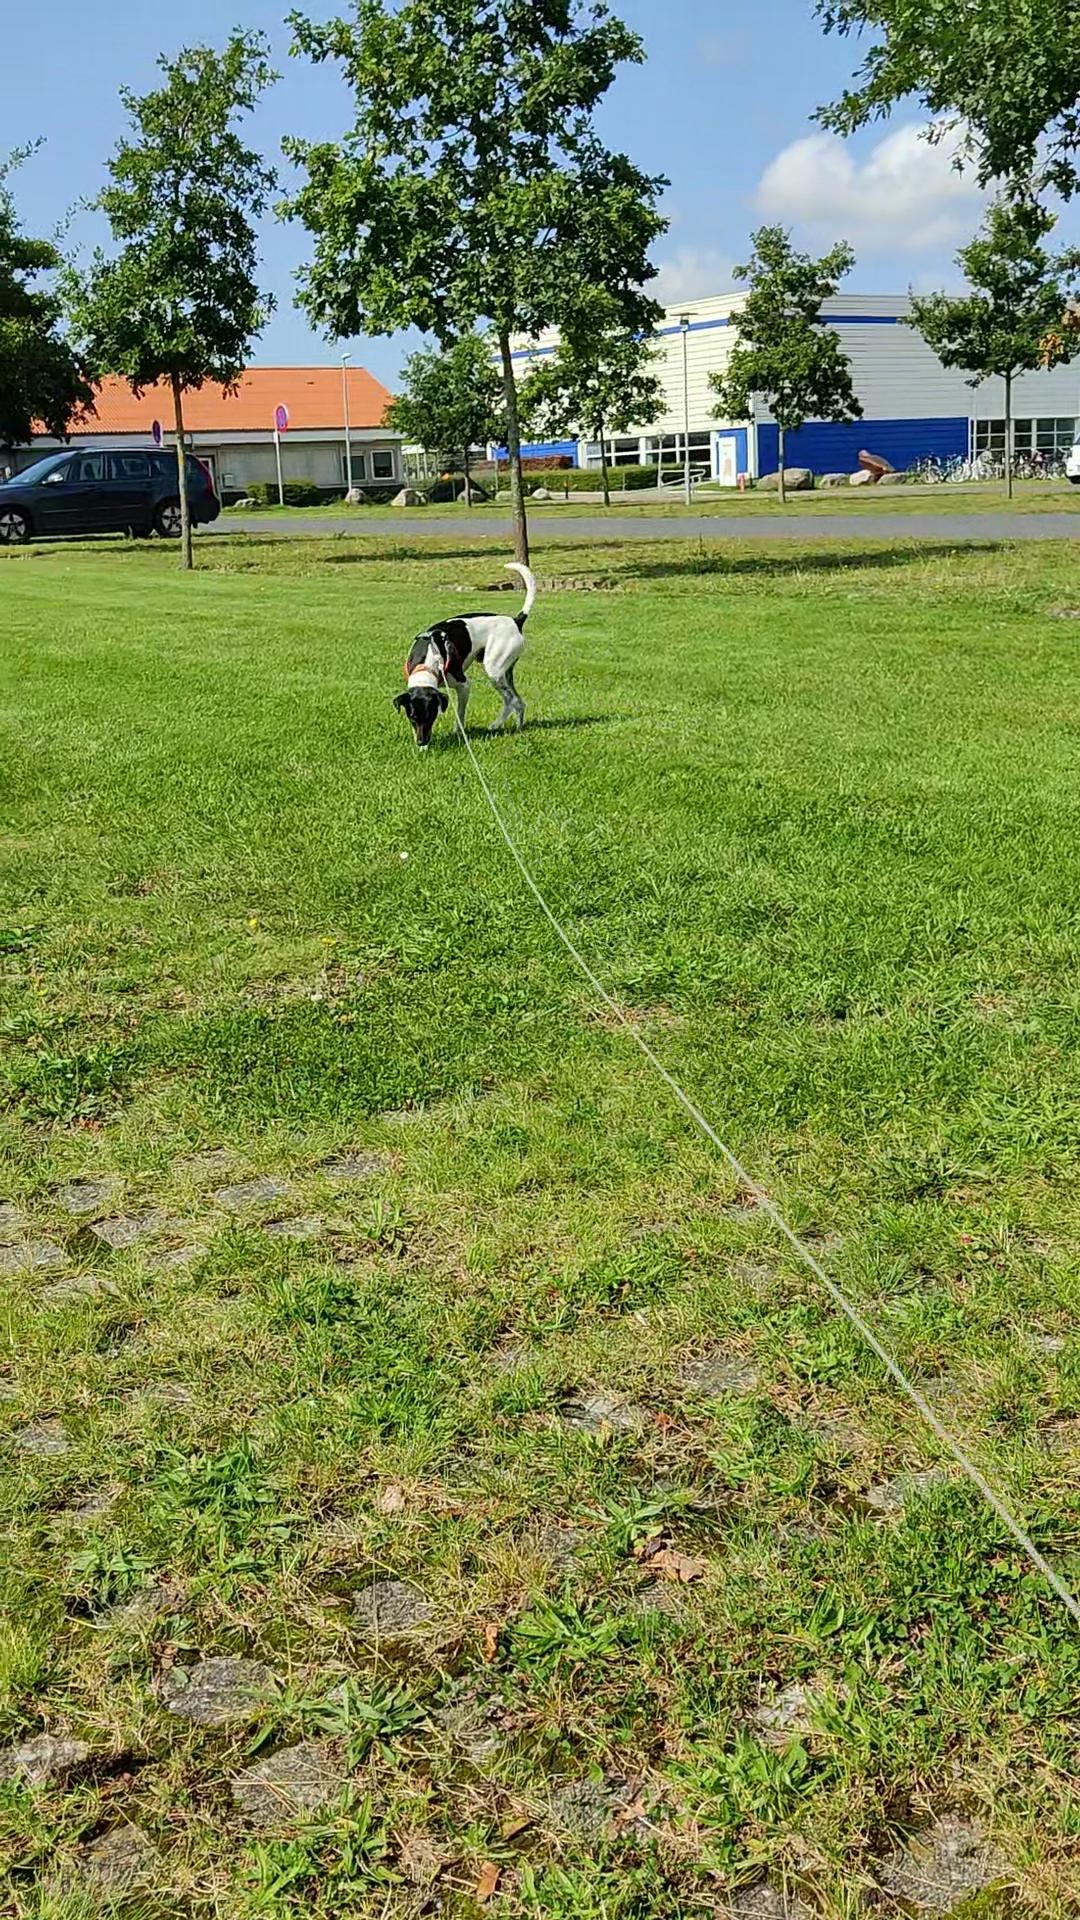Dog: (378, 555, 560, 752)
